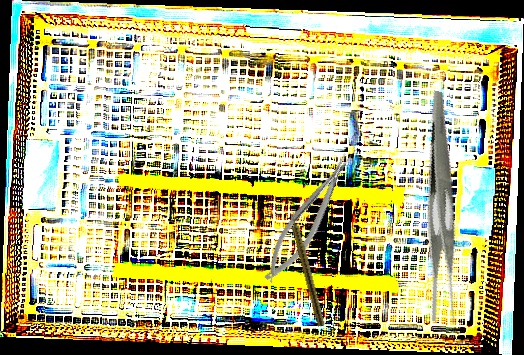Dressing Forceps: (368, 89, 519, 328)
Handpiece: (287, 211, 328, 327)
Needle Holder: (253, 148, 365, 289)
